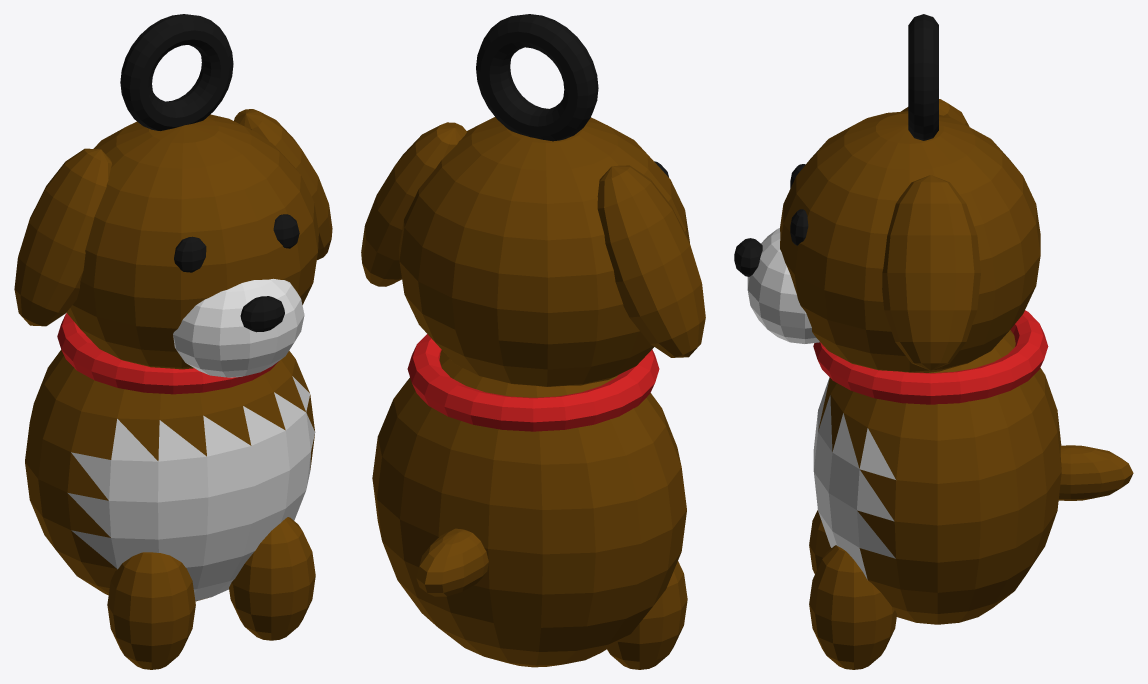
Rendered from kc3d-preview.glb.
The picture shows the model from 3 angles, left to right: view 1: azimuth 30°, elevation 25°; view 2: azimuth 150°, elevation 25°; view 3: azimuth 270°, elevation 25°; orthographic projection. The views are drawn at different scales.
Parts seen in each view (by area): view 1: keychain_3d_filaments; view 2: keychain_3d_filaments; view 3: keychain_3d_filaments.
Boxes of the visible parts, x1,y1,x2,y2 form: keychain_3d_filaments: (14, 14, 332, 669); keychain_3d_filaments: (361, 14, 705, 669); keychain_3d_filaments: (734, 14, 1133, 669).
Size of the model in its own units: 25.52 by 48.75 by 28.54.
